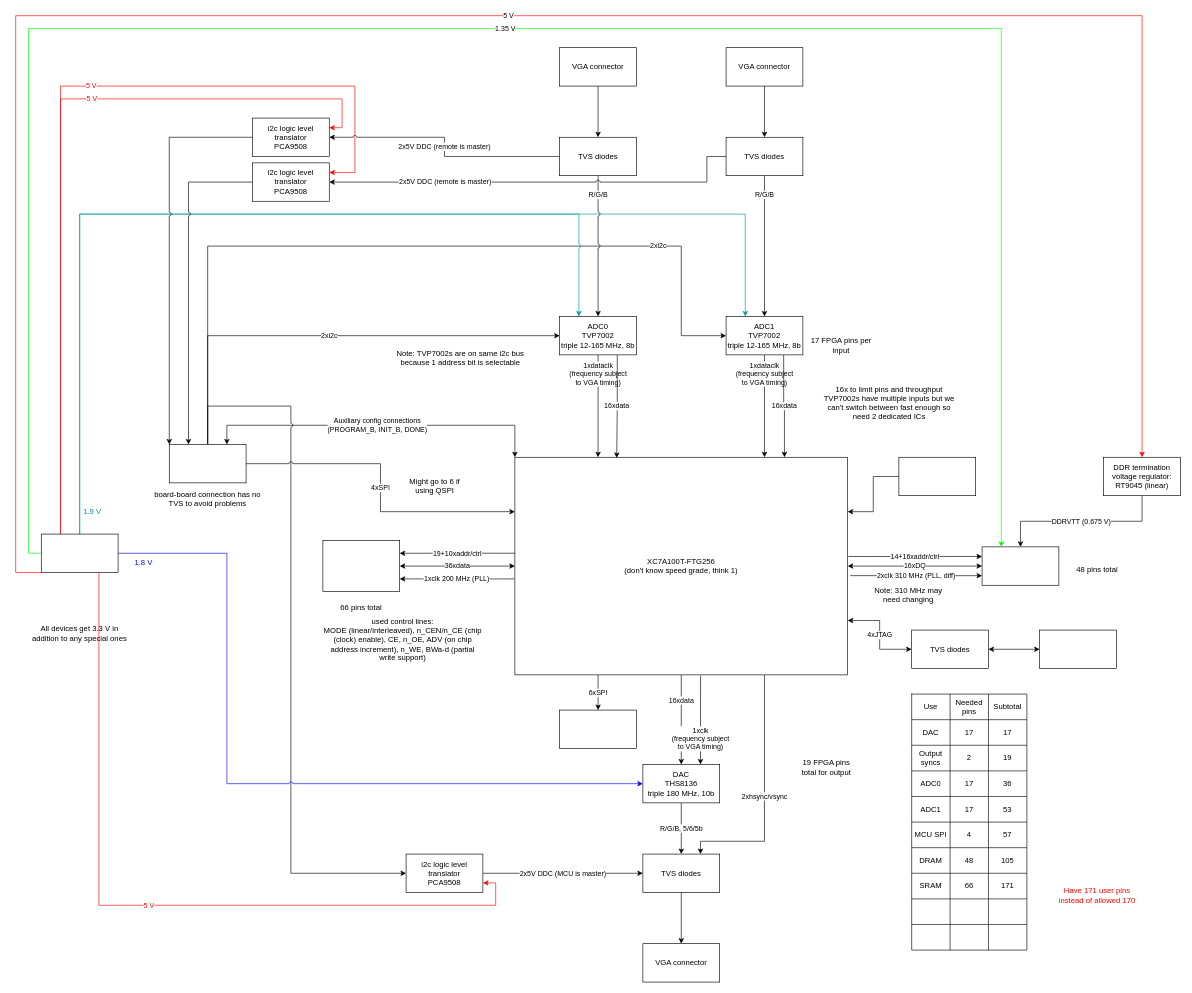
This 1192x993 diagram has some shape labels left out. Each missing label, with the box of its shape:
100 MHz oscillator EC2620TTS-100.000MTR 20 ppm, 3.3V: (898, 457, 976, 496)
config flash W25Q64JVSS QSPI: (559, 709, 636, 748)
DRAM MT41K128M16JT-107/125 (same as Arty/better grade): (981, 546, 1059, 585)
FPGA board data connector: (169, 444, 246, 483)
FPGA board power connector: (41, 533, 118, 572)
JTAG connector: (1039, 629, 1116, 668)
SRAM CY7C1370KV33-200AXC 512Kx36@200 MHz: (322, 540, 400, 592)
